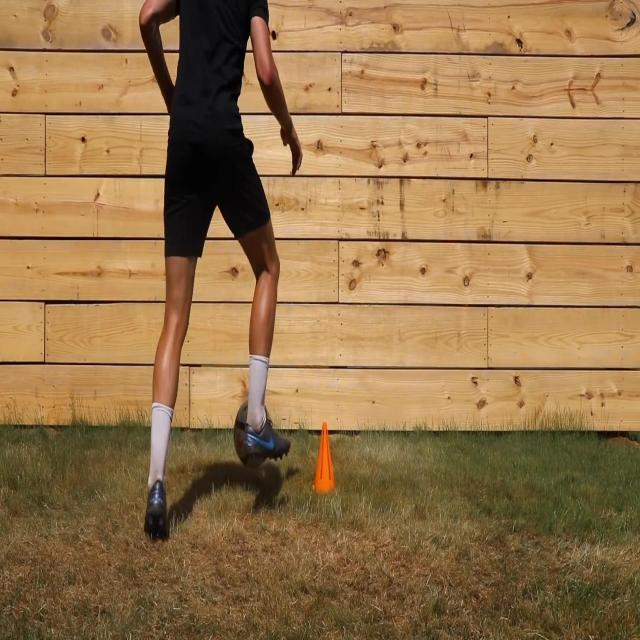Soccer Ball: (234, 398, 271, 471)
